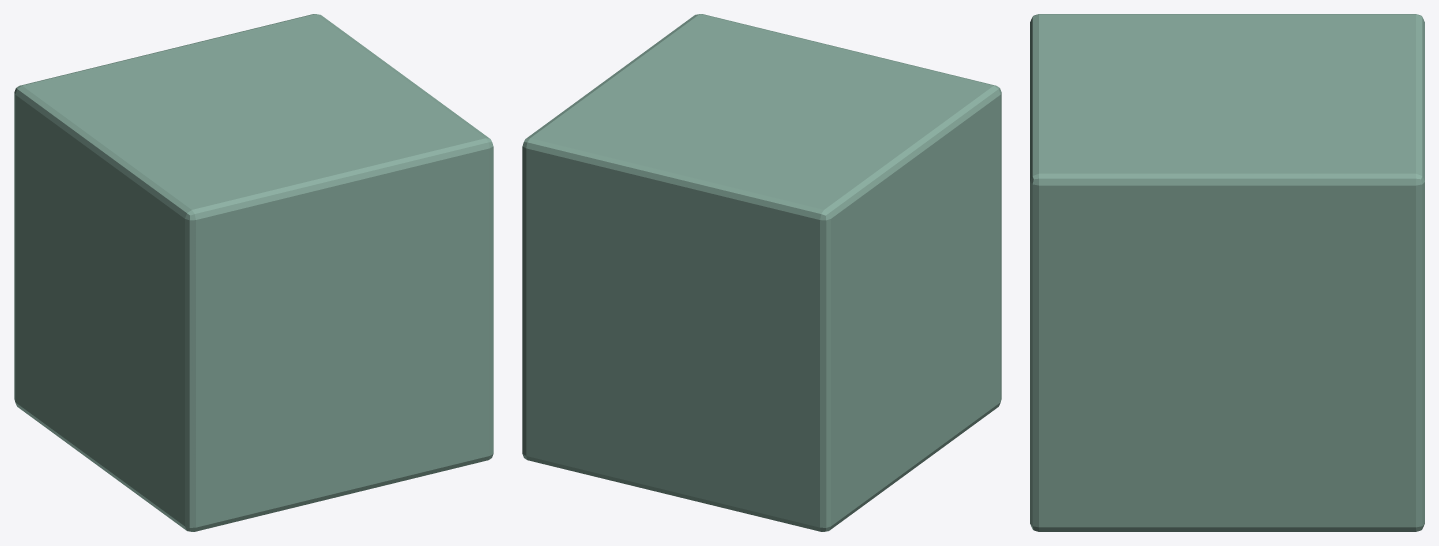
File: practice.glb
3 views of the same model, side by side, from view 1: azimuth 30°, elevation 25°; view 2: azimuth 150°, elevation 25°; view 3: azimuth 270°, elevation 25° (orthographic). The views are drawn at different scales.
Visible parts, largest first — view 1: Cube; view 2: Cube; view 3: Cube.
Part boxes in pixels (x1=…): Cube: x1=14, y1=14, x2=493, y2=531; Cube: x1=522, y1=14, x2=1001, y2=531; Cube: x1=1030, y1=14, x2=1424, y2=531.
Bounding box in the file's own units: 2 × 2 × 2.
